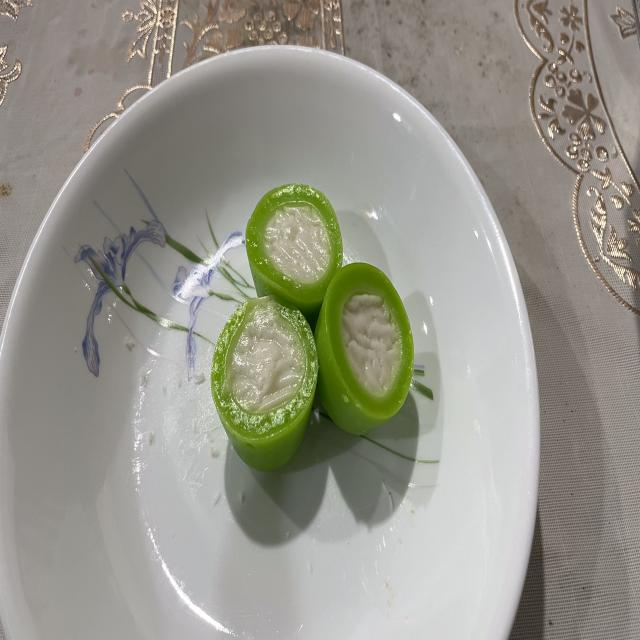nona-manis: (211, 296, 318, 471), (315, 262, 414, 436), (245, 184, 342, 329)
